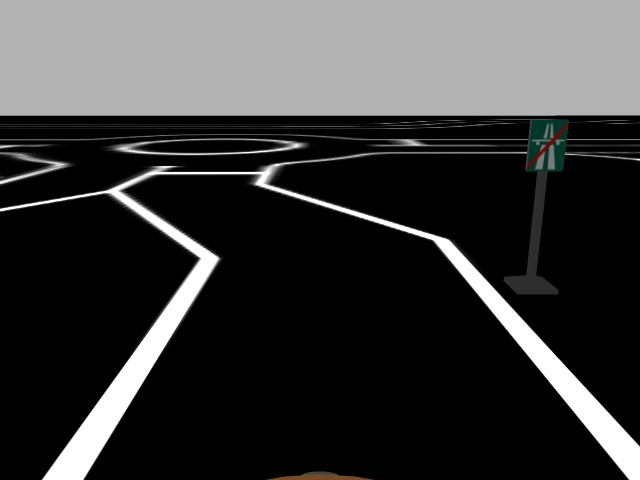leave_highway: (524, 117, 569, 173)
